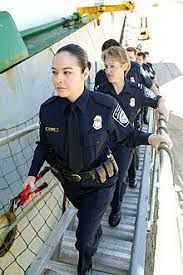uniform: (27, 93, 121, 261)
